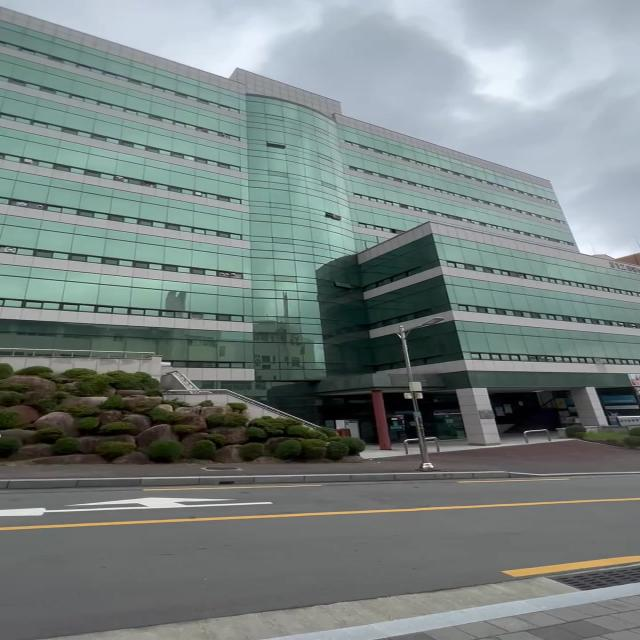building: (46, 75, 624, 380)
